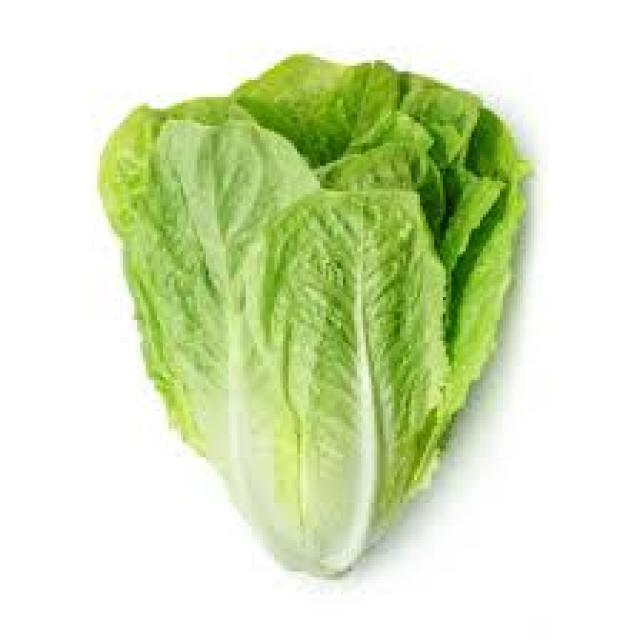Lettuce: (105, 52, 533, 573)
